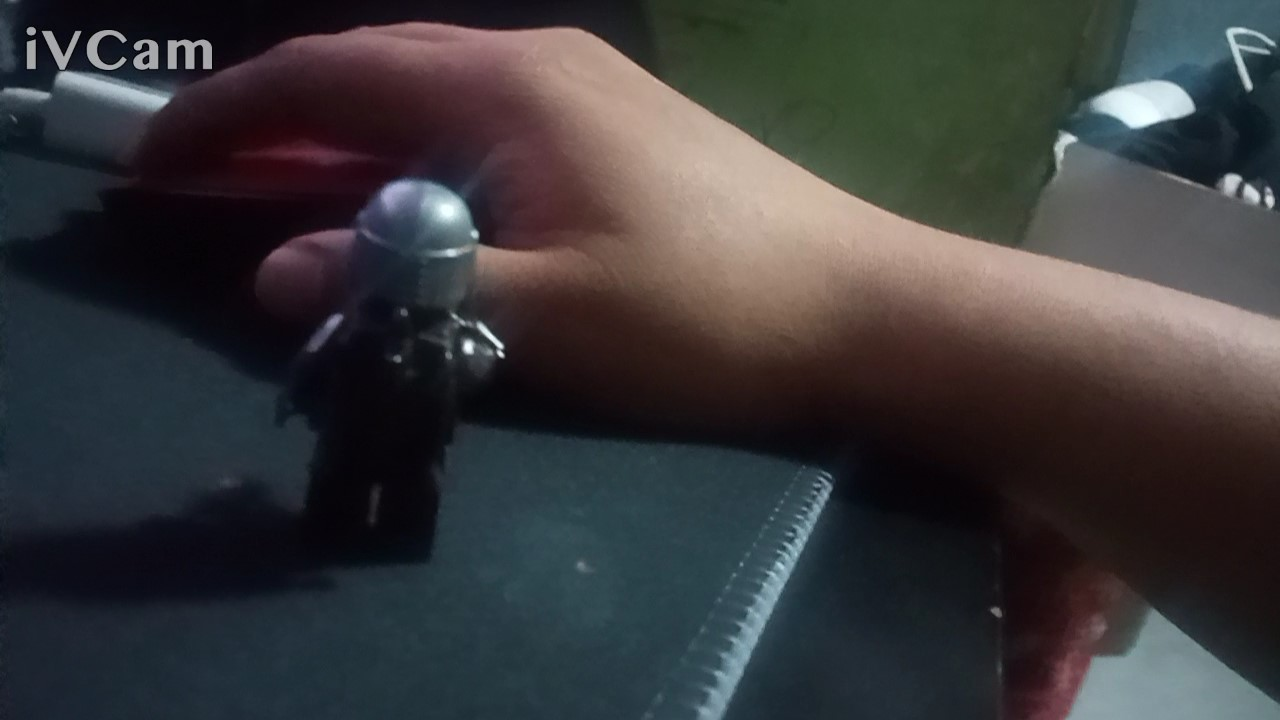mandalorian: (268, 173, 517, 591)
